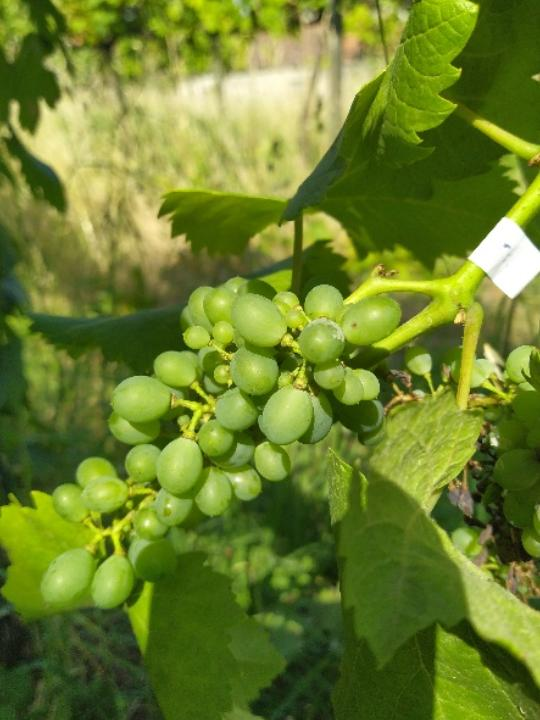grape: (32, 270, 435, 617)
